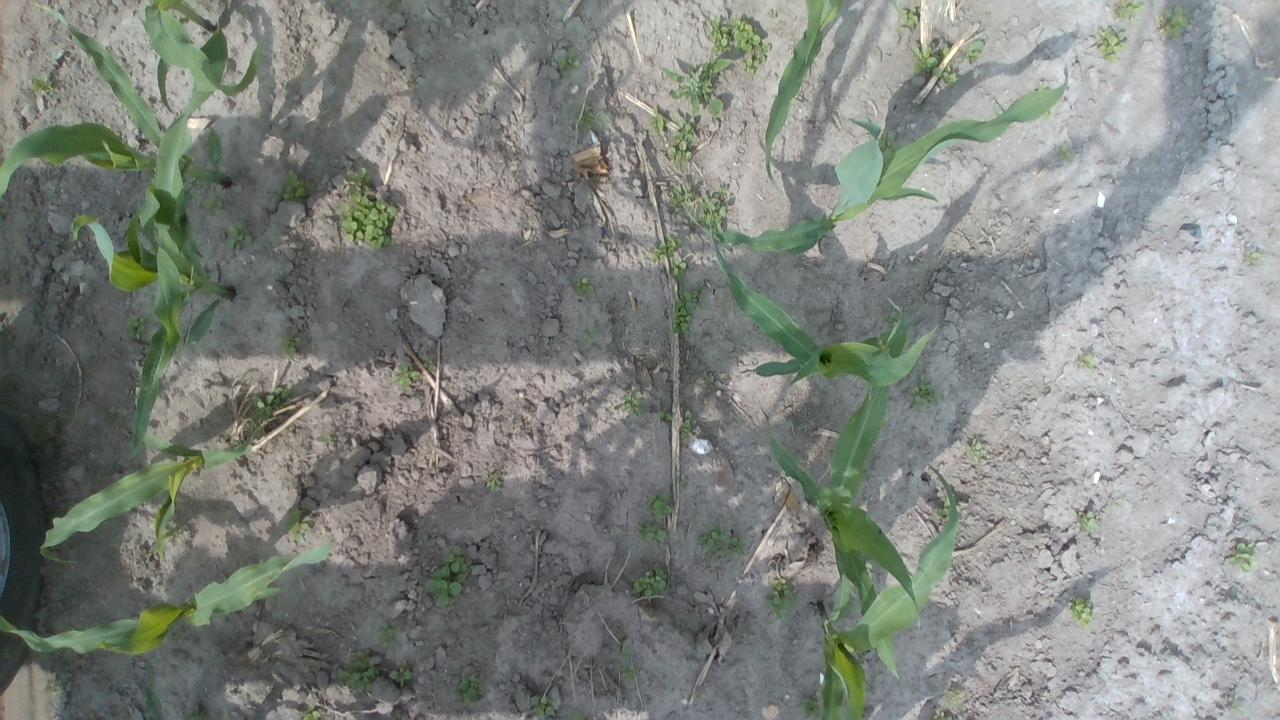Maize: (674, 66, 1073, 252), (0, 0, 234, 259), (770, 296, 919, 682), (72, 184, 232, 458), (708, 220, 942, 388), (0, 546, 334, 660), (812, 462, 958, 720), (40, 422, 249, 563), (763, 0, 843, 198), (140, 0, 266, 114), (141, 659, 211, 720)
Weeds: (340, 166, 400, 249), (660, 58, 734, 121), (706, 12, 773, 78), (424, 545, 468, 608), (561, 93, 614, 132), (697, 522, 748, 560), (666, 115, 700, 172), (250, 380, 294, 424), (670, 282, 706, 334), (648, 232, 686, 280), (336, 650, 379, 692), (698, 186, 729, 234), (908, 41, 948, 78), (763, 578, 798, 620), (904, 374, 942, 412), (1094, 25, 1128, 66), (632, 562, 664, 600), (1156, 4, 1188, 40), (280, 169, 311, 203), (282, 507, 310, 544), (274, 334, 310, 362), (452, 673, 484, 704), (1226, 542, 1256, 572), (1111, 0, 1146, 25), (197, 188, 226, 218), (224, 222, 253, 252), (878, 127, 901, 164), (392, 362, 420, 392), (634, 520, 667, 545), (1068, 596, 1092, 630), (666, 185, 694, 214), (646, 491, 674, 520), (895, 2, 919, 35), (374, 623, 402, 651), (800, 690, 826, 720), (163, 518, 190, 546), (124, 314, 153, 340), (618, 389, 644, 417), (388, 660, 414, 687), (964, 437, 987, 466), (558, 49, 580, 79), (646, 104, 666, 136), (530, 694, 556, 718), (26, 72, 54, 94), (1076, 509, 1100, 534), (942, 688, 966, 712), (961, 40, 983, 66), (572, 274, 596, 296), (936, 497, 961, 518), (680, 410, 696, 439), (939, 64, 959, 86), (618, 664, 638, 686), (44, 678, 64, 699), (1075, 352, 1097, 371), (485, 468, 503, 491), (1242, 248, 1264, 266), (580, 326, 598, 348), (185, 704, 209, 720), (1057, 142, 1075, 162), (614, 644, 632, 662), (302, 704, 321, 720), (654, 406, 674, 421), (379, 0, 402, 13), (881, 309, 899, 325), (422, 354, 437, 372), (932, 708, 954, 720), (1228, 701, 1244, 717), (992, 102, 1005, 116), (677, 474, 689, 488), (318, 434, 334, 444), (567, 712, 584, 720), (1034, 82, 1050, 90), (416, 532, 424, 546), (1042, 109, 1052, 120), (404, 76, 414, 87), (769, 8, 780, 18), (219, 714, 232, 720), (1108, 500, 1119, 507)
